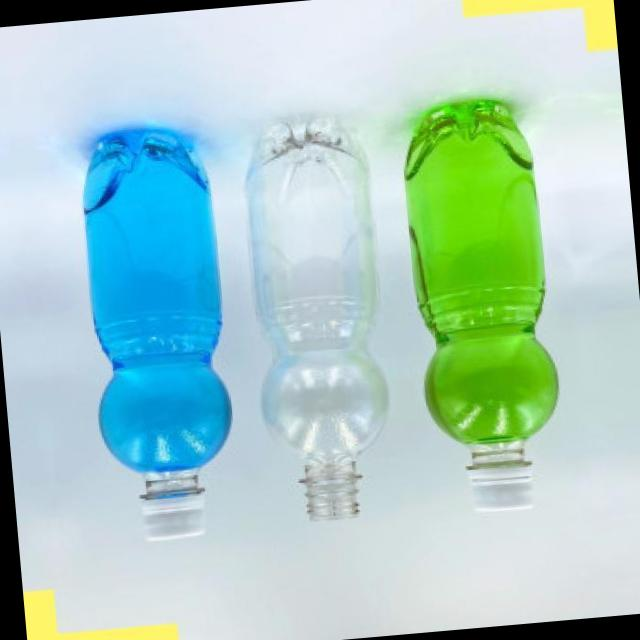BotolPlastik: (230, 100, 408, 544), (395, 96, 569, 520), (72, 124, 243, 546)
